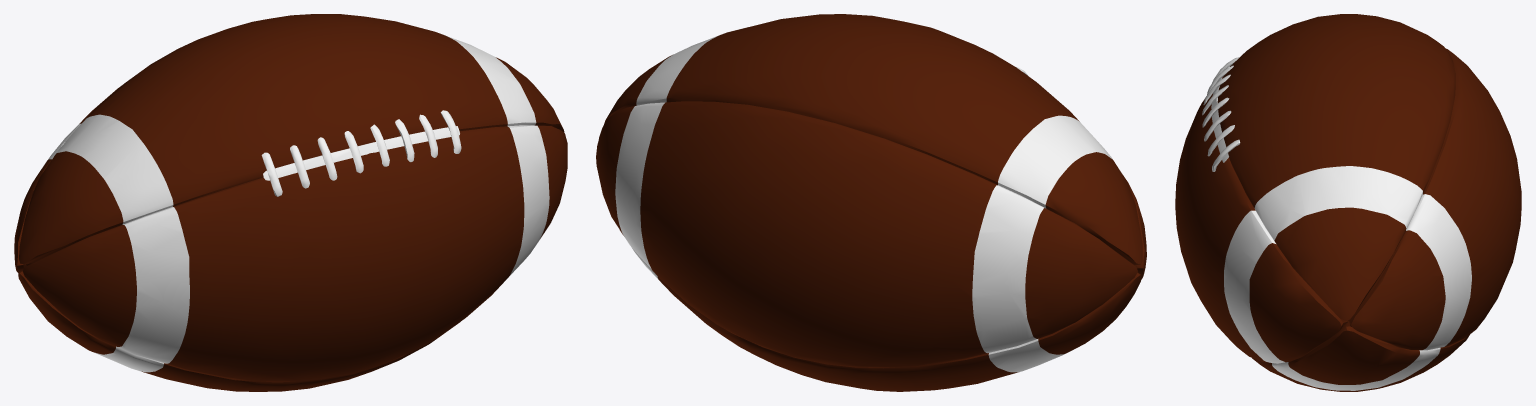
The model's file is DM_football.fbx.
3 renders of one model, left to right at view 1: azimuth 30°, elevation 25°; view 2: azimuth 150°, elevation 25°; view 3: azimuth 270°, elevation 25°, orthographic. The views are drawn at different scales.
Parts seen in each view (by area): view 1: DM_football; view 2: DM_football; view 3: DM_football.
Part boxes in pixels (x1=…): DM_football: x1=14, y1=14, x2=567, y2=391; DM_football: x1=596, y1=14, x2=1146, y2=391; DM_football: x1=1175, y1=14, x2=1521, y2=391.
Bounding box in the file's own units: 0.2789 × 0.1654 × 0.1657.
